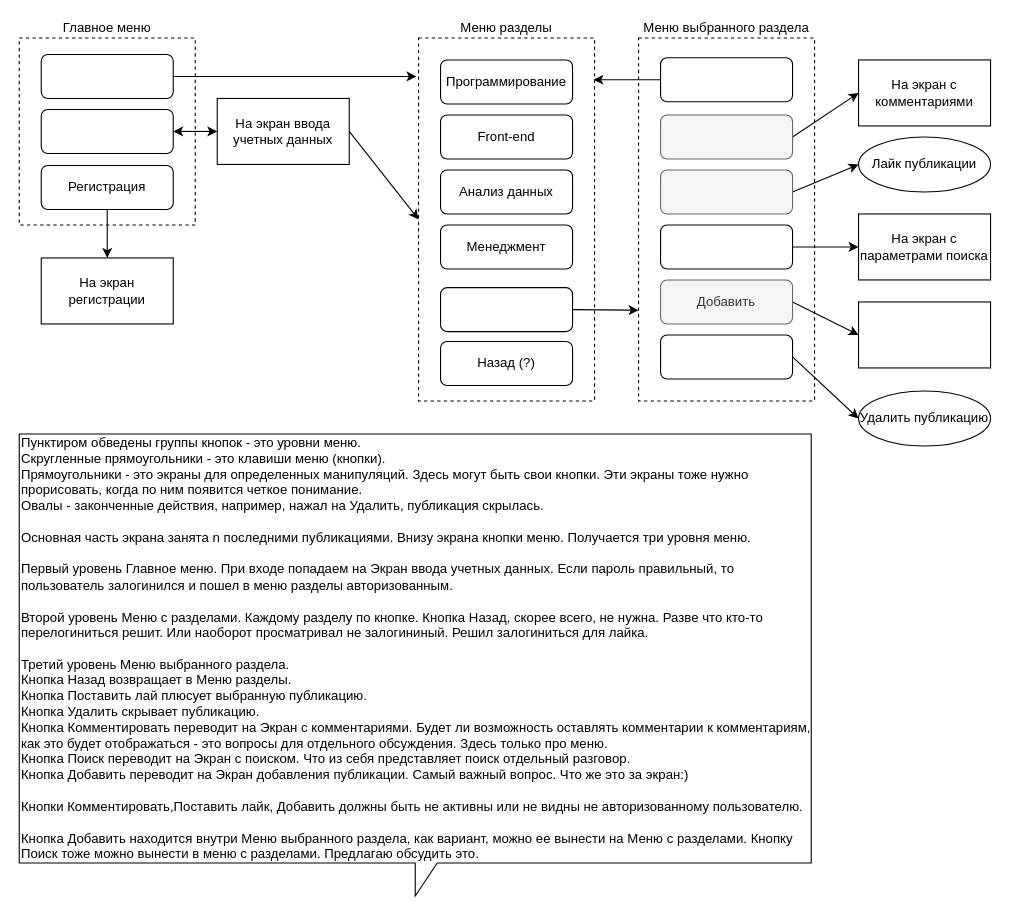
Some shapes in this 1010 by 915 pixel diagram are drawn without their labels. The shapes that lost their labels are listed below. From the top down, each one's centre as x and y in pixels, then its label:
At point (106, 75): "Разделы".
At point (726, 79): "Назад".
At point (106, 130): "Вход".
At point (726, 136): "Комментировать".
At point (726, 191): "Поставить лайк".
At point (726, 246): "Поиск".
At point (506, 309): "Раздел N".
At point (924, 334): "На экран добавления публикации".
At point (726, 356): "Удалить".
